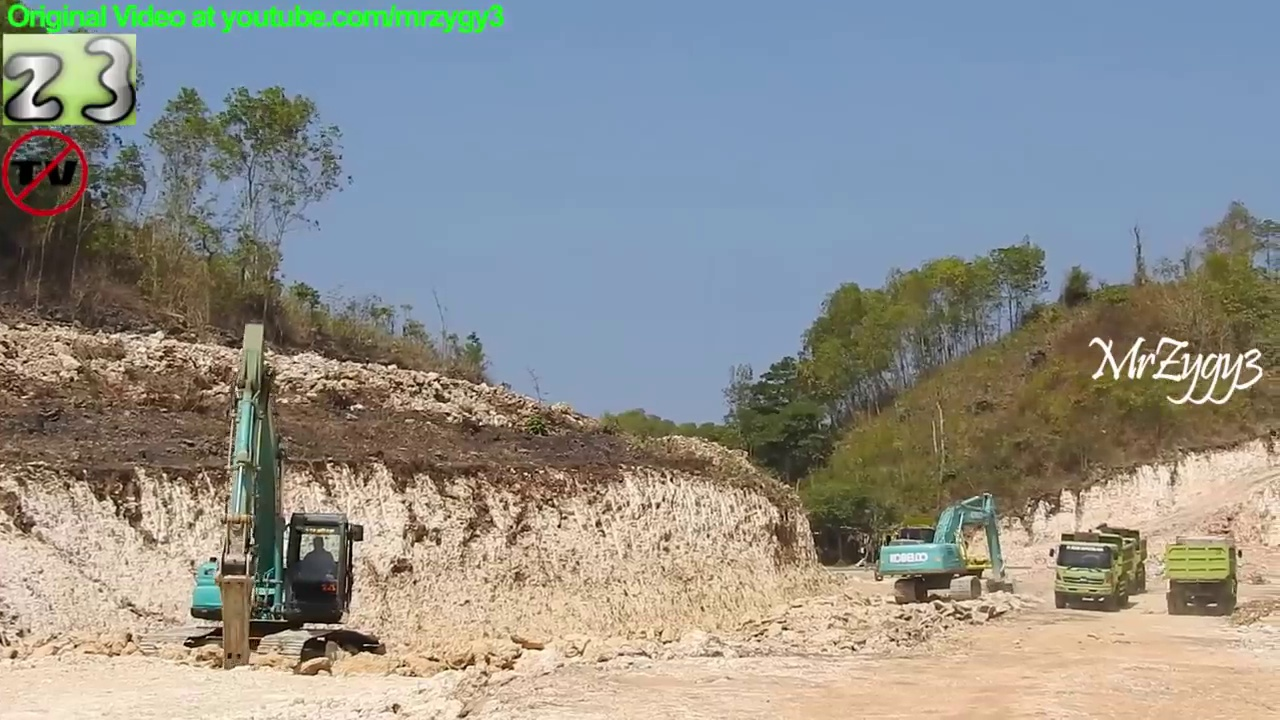excavator: (874, 489, 1016, 607)
excavator breaker: (137, 317, 395, 683)
truck: (1047, 528, 1140, 612), (1160, 534, 1247, 619), (1061, 521, 1151, 603)
